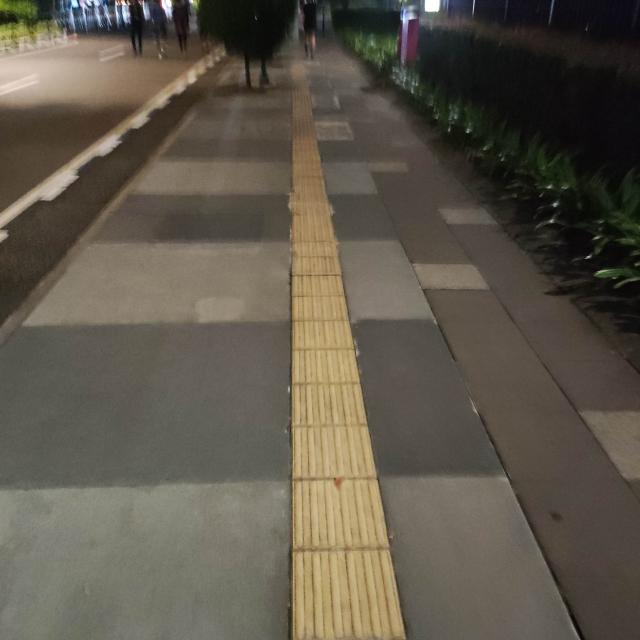lurus: (267, 98, 396, 640)
